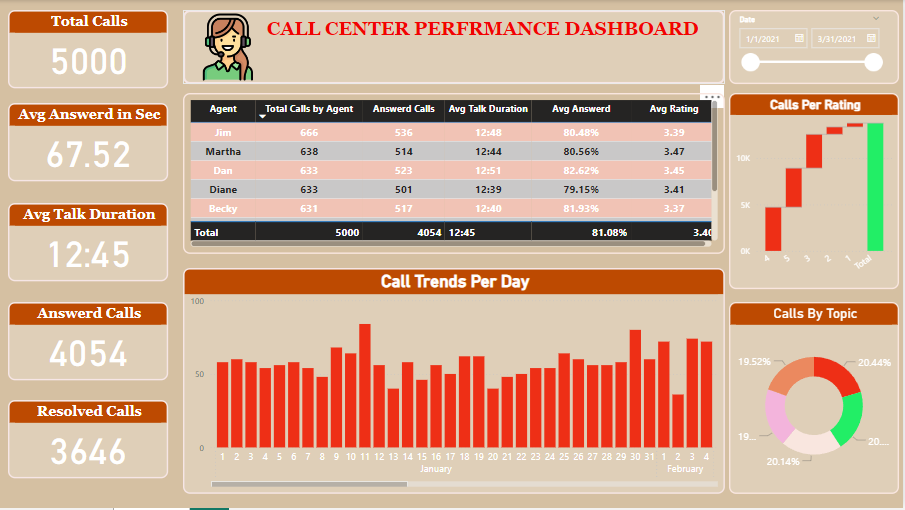

The dashboard page shown, as its layout file describes it:
{"tool":"powerbi","page":{"name":"Page 1","canvas":[1280,720],"ordinal":0},"visuals":[{"type":"textbox","box":[260.8,14.2,768.2,104.9],"z":0},{"type":"image","box":[260.8,14.2,127.6,104.9],"z":1000},{"type":"card","title":"Total Calls","fields":{"Values":["Sheet1.Call Id"]},"box":[12.8,14.2,226.8,110.6],"z":2000},{"type":"card","title":"Avg Answerd in Sec","fields":{"Values":["New Measure.Avg Answerd in Seconds"]},"box":[12.8,146,226.8,110.6],"z":3000},{"type":"card","title":"Avg Talk Duration","fields":{"Values":["New Measure.Avg Talk Duration"]},"box":[12.8,287.7,226.8,110.6],"z":4000},{"type":"card","title":"Answerd Calls","fields":{"Values":["New Measure.Answerd Calls"]},"box":[12.8,428,226.8,110.6],"z":5000},{"type":"card","title":"Resolved Calls","fields":{"Values":["New Measure.Resolved Calls"]},"box":[12.8,566.9,226.8,110.6],"z":6000},{"type":"tableEx","fields":{"Values":["Sheet1.Agent","New Measure.Total Calls by Agent","New Measure.Answerd Calls","New Measure.Avg Talk Duration","New Measure.Avg Answerd","New Measure.Avg Rating"]},"box":[260.8,131.8,768.2,228.2],"z":7000},{"type":"lineClusteredColumnComboChart","title":"Call Trends Per Day","fields":{"Category":["Sheet1.Date.Variation.Date Hierarchy.Month","Sheet1.Date.Variation.Date Hierarchy.Day"],"Y":["New Measure.Total Calls by Agent"]},"box":[260.8,379.8,768.2,320.3],"z":8000},{"type":"slicer","fields":{"Values":["Sheet1.Date"]},"box":[1034.6,14.2,240.9,104.9],"z":8001},{"type":"waterfallChart","title":"Calls Per Rating","fields":{"Y":["Sheet1.Satisfaction rating"],"Category":["Sheet1.Satisfaction rating"]},"box":[1034.6,131.8,240.9,277.8],"z":8002},{"type":"donutChart","title":"Calls By Topic","fields":{"Category":["Sheet1.Topic"],"Y":["New Measure.Total Calls by Agent"]},"box":[1034.6,428,240.9,272.1],"z":8003}]}

Visuals, with their boxes in screenshot pixels (x1, y1, x2, y2), scaled from the page's 1280x720 canvas onto the 905x510 screenshot:
textbox: [184,10,728,84]
image: [184,10,275,84]
"Total Calls" card: [9,10,169,88]
"Avg Answerd in Sec" card: [9,103,169,182]
"Avg Talk Duration" card: [9,204,169,282]
"Answerd Calls" card: [9,303,169,382]
"Resolved Calls" card: [9,402,169,480]
tableEx - Sheet1.Agent x New Measure.Total Calls by Agent: [184,93,728,255]
"Call Trends Per Day" lineClusteredColumnComboChart: [184,269,728,496]
slicer - Sheet1.Date: [731,10,902,84]
"Calls Per Rating" waterfallChart: [731,93,902,290]
"Calls By Topic" donutChart: [731,303,902,496]
